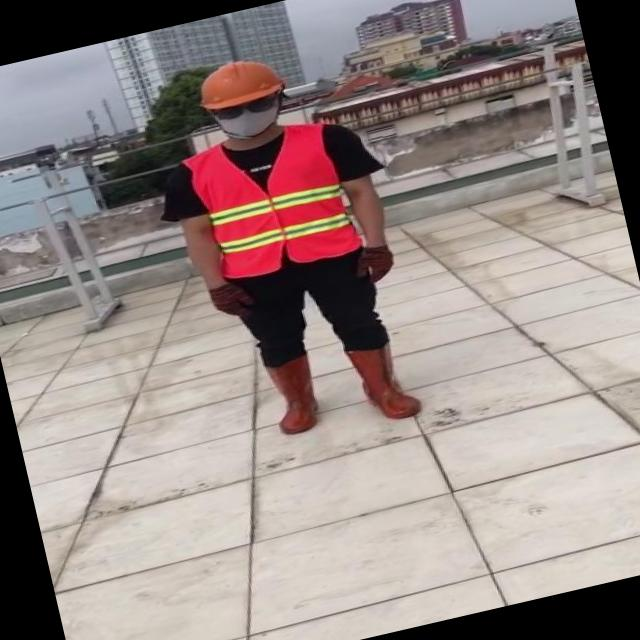boots: (341, 334, 424, 428), (258, 353, 324, 438)
helmet: (189, 48, 286, 117)
vest: (182, 116, 362, 285)
